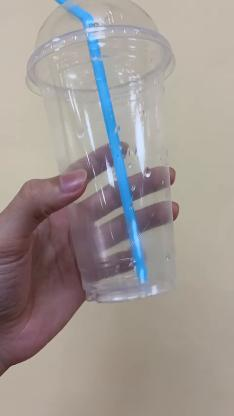Plastic Cup: (25, 0, 181, 302)
